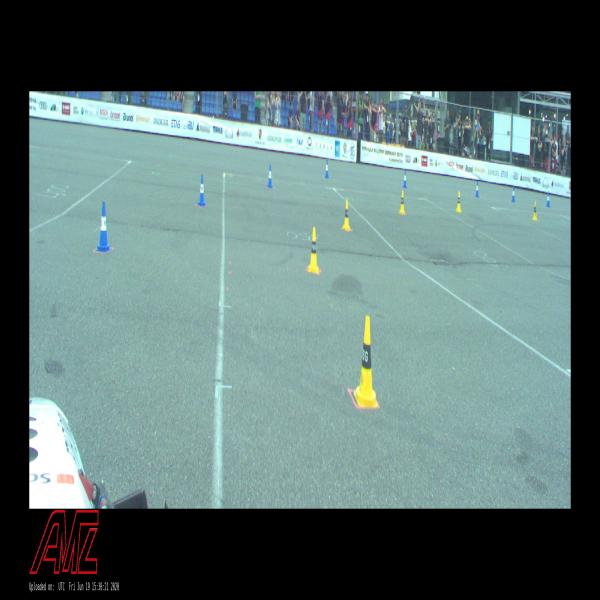blue_cone: (96, 202, 111, 252), (198, 175, 206, 206), (267, 164, 273, 188), (324, 159, 329, 178), (403, 170, 407, 188), (546, 192, 550, 208), (475, 181, 479, 197), (512, 187, 516, 202)
yellow_cone: (353, 316, 378, 406), (308, 227, 319, 272), (342, 199, 351, 231), (399, 190, 405, 215), (456, 191, 462, 212), (532, 202, 538, 220)
